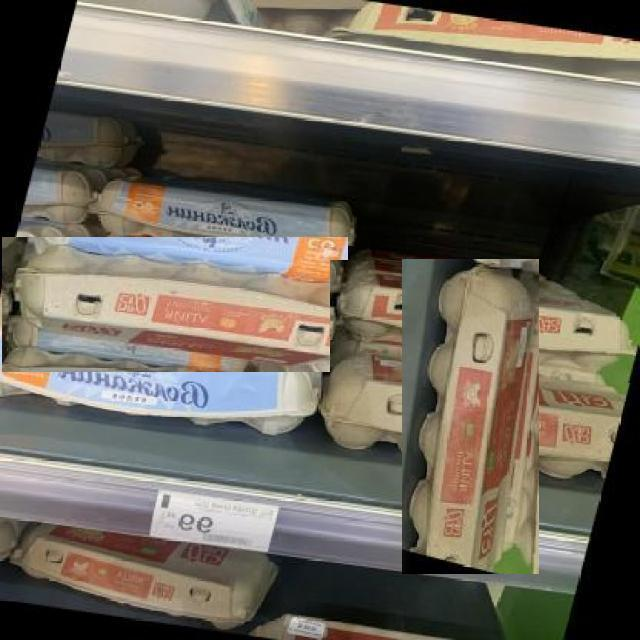Egg: (1, 236, 348, 372), (401, 260, 539, 574), (331, 261, 639, 383)
